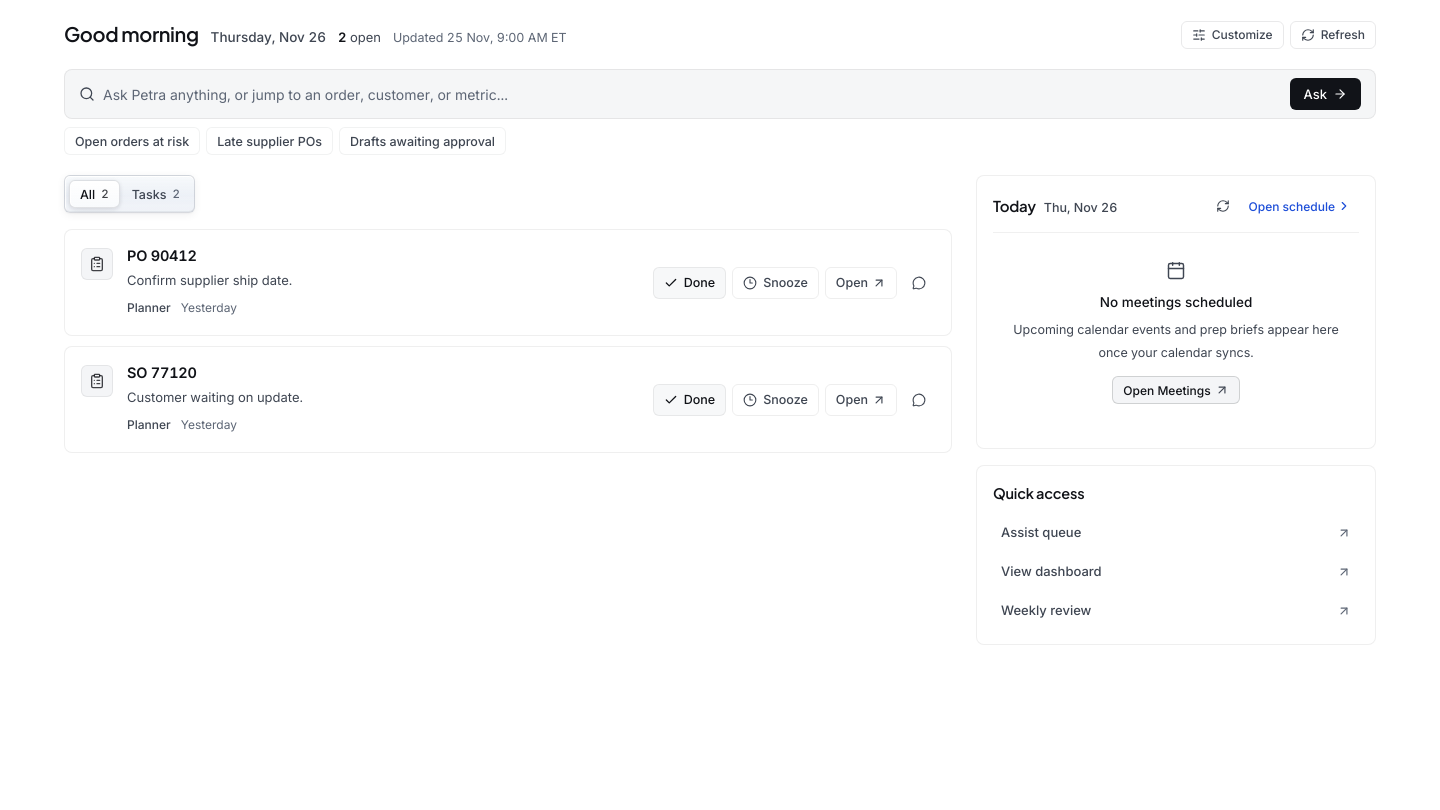
Test case: Inline detail expansion on Home rows and canonical record links › opens clean without an empty split pane, expands a row inline on click, normalizes 1-segment object hrefs, and closes on Escape or Close button
The width and height of the screenshot is (1440, 810).
Click the link with test id "need-row" that starts with "PO 90412".
click(187, 281)  # box [81,247,292,315]
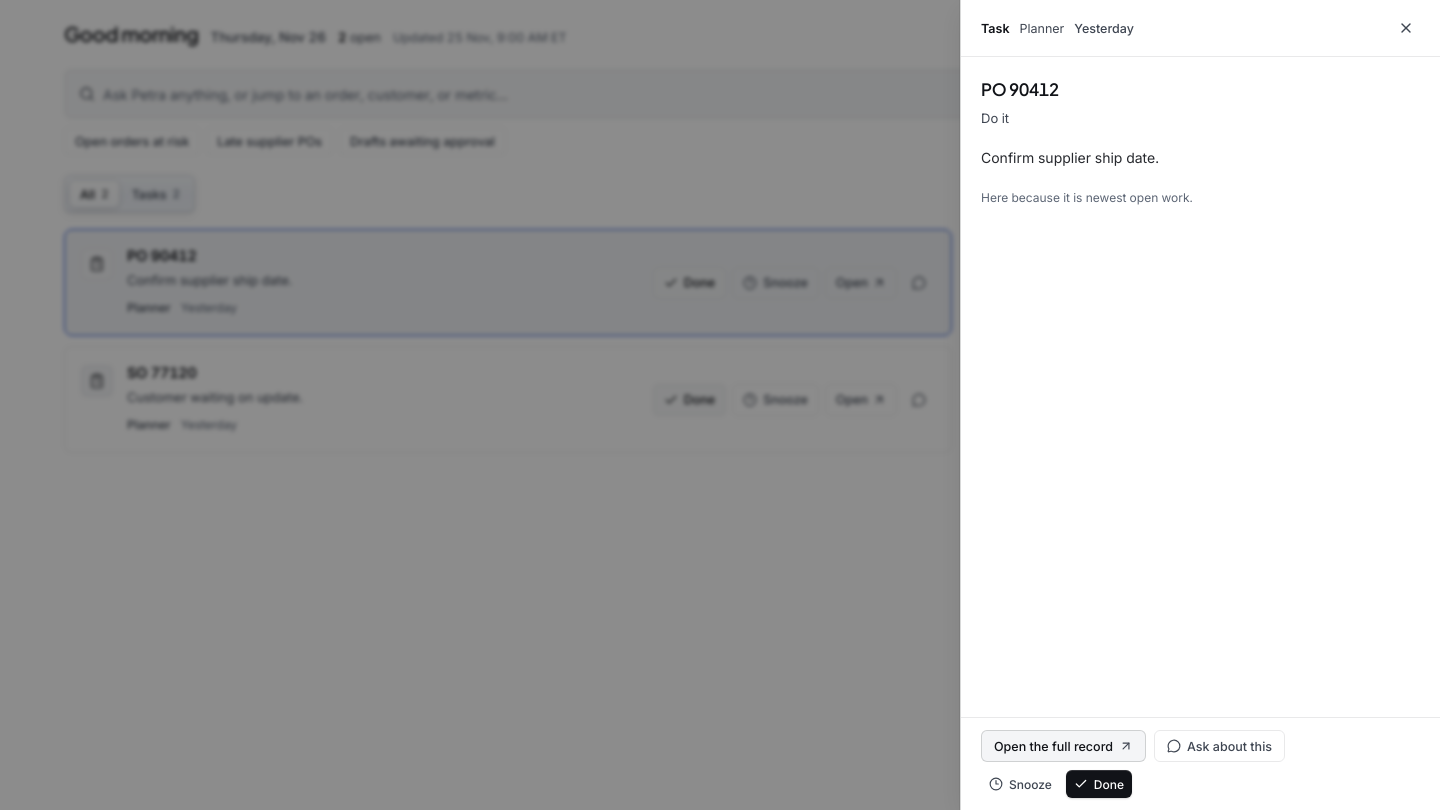
Expected: the dialog with test id "need-detail" shows "PO 90412", [981,78,1059,100]
Expected: the dialog with test id "need-detail" shows "Confirm supplier ship date.", [981,149,1159,166]
Close by pressing Escape.
Press Escape
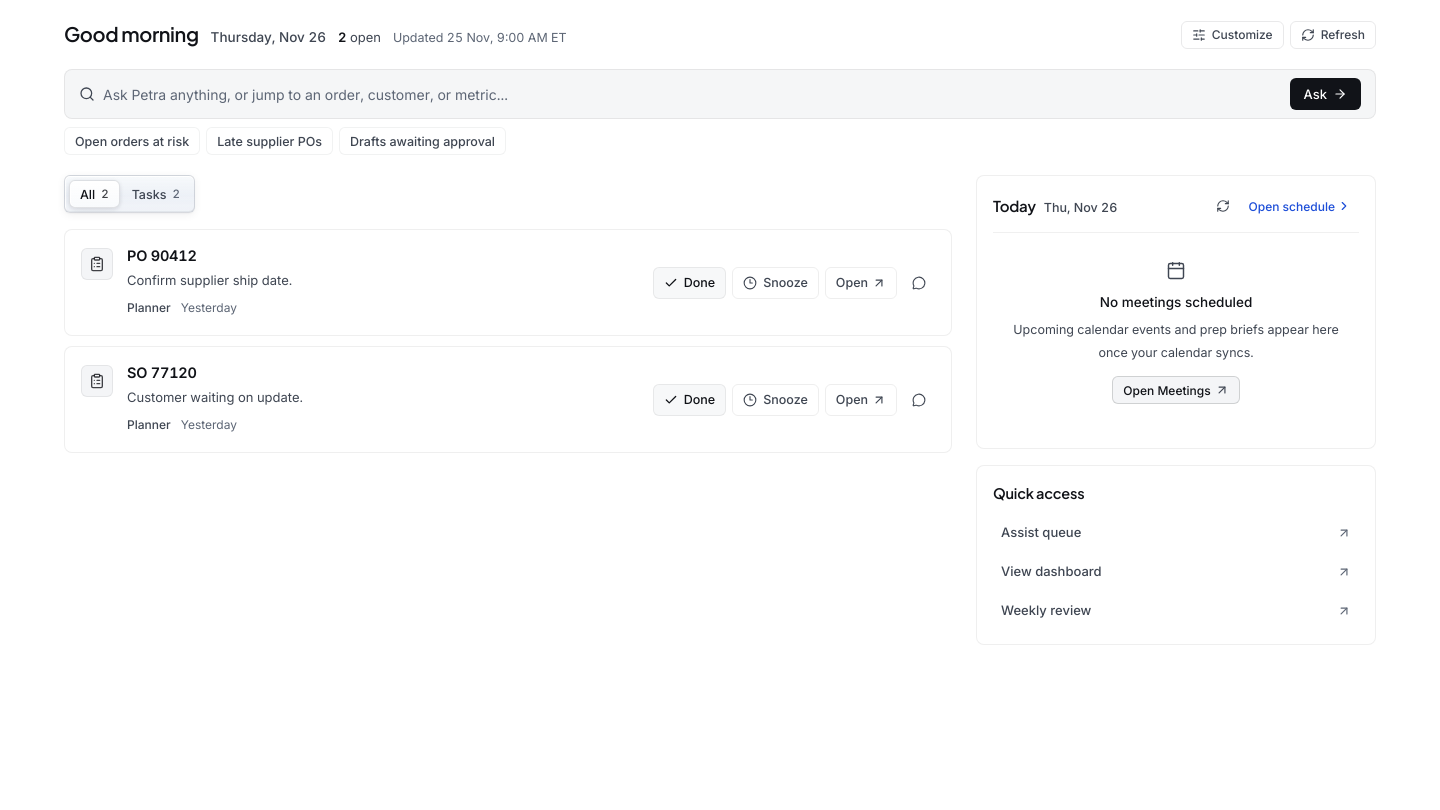
Expected: the dialog with test id "need-detail" is gone
Open the second item and close via the Close button.
Click the link with test id "need-row" that starts with "SO 77120".
click(192, 398)  # box [81,364,303,432]
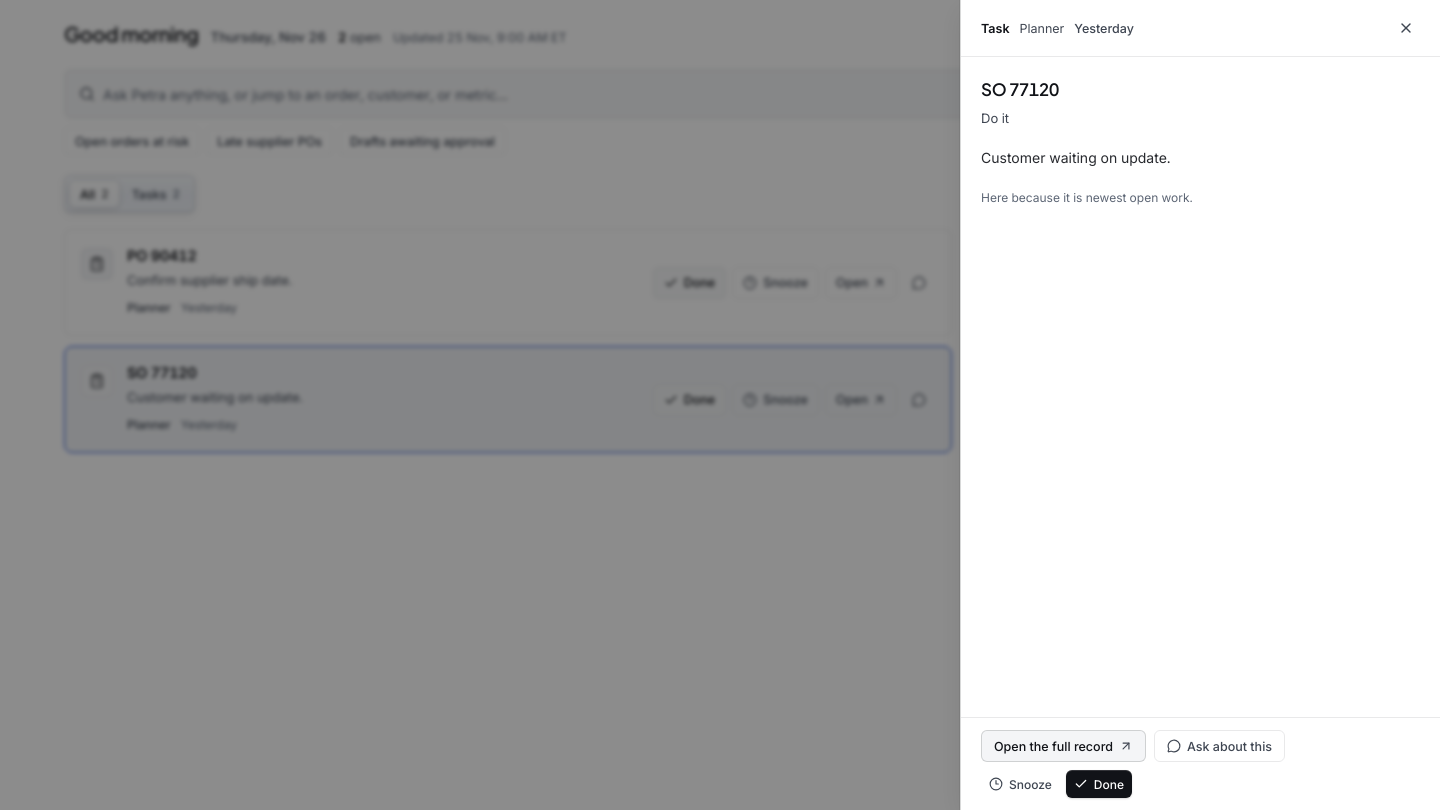
Expected: the dialog with test id "need-detail" shows "SO 77120", [981,78,1059,100]
Click the button with test id "close-detail".
click(1406, 28)  # box [1392,14,1420,42]
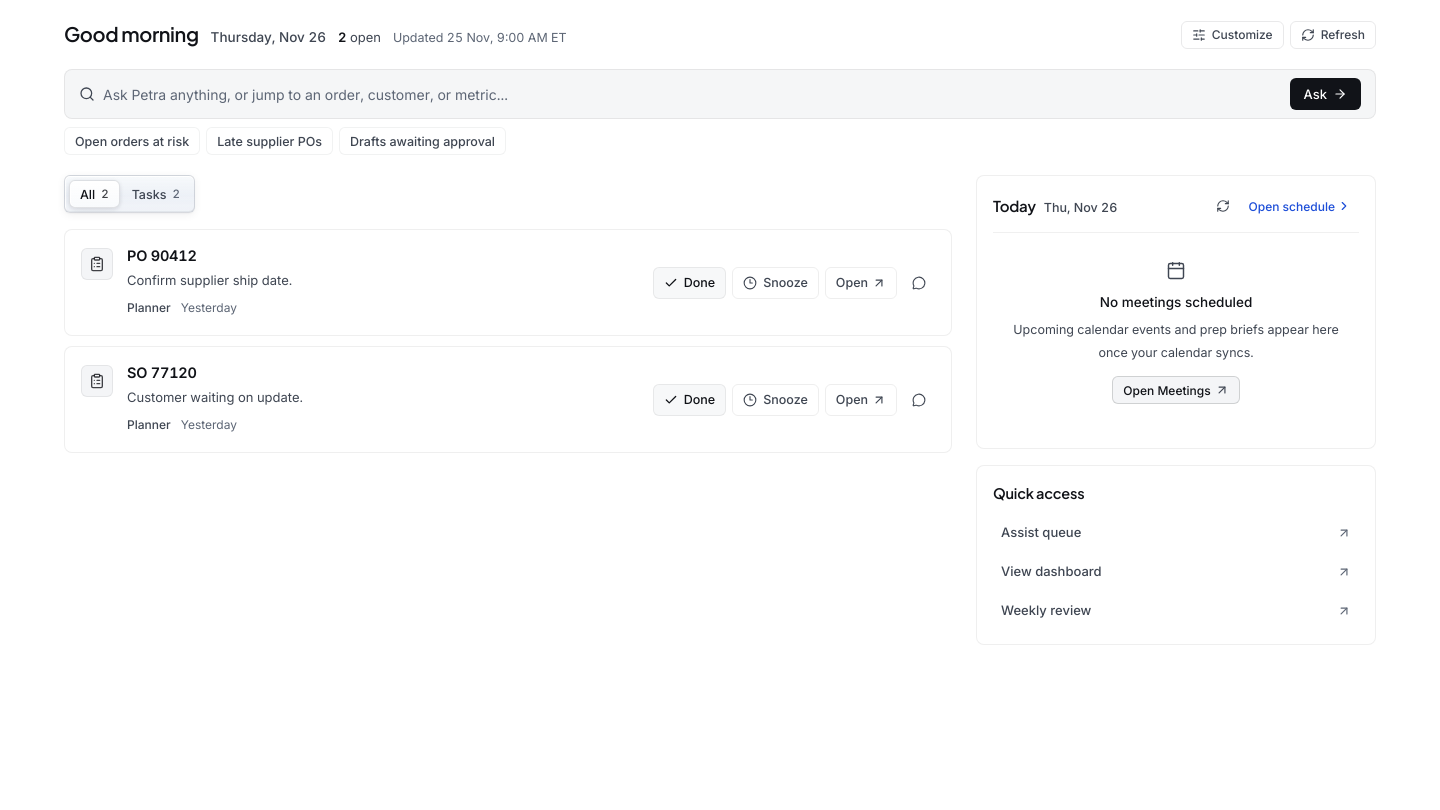
Expected: the dialog with test id "need-detail" is gone
